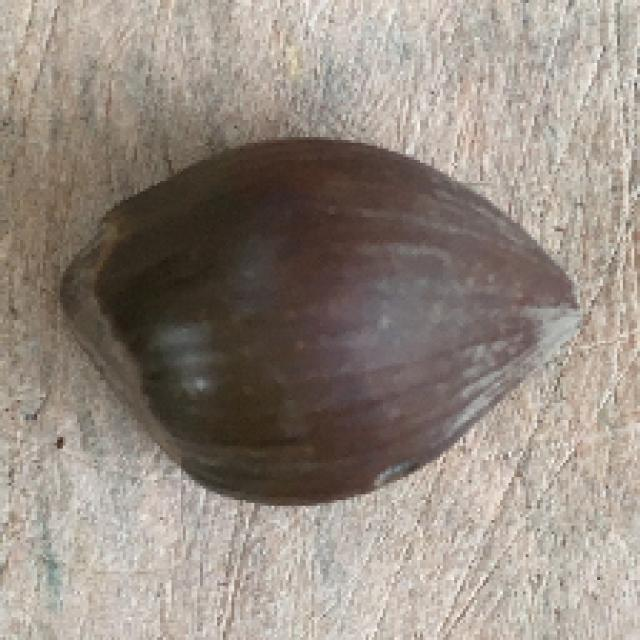damagedHazelnut: (46, 136, 581, 509)
